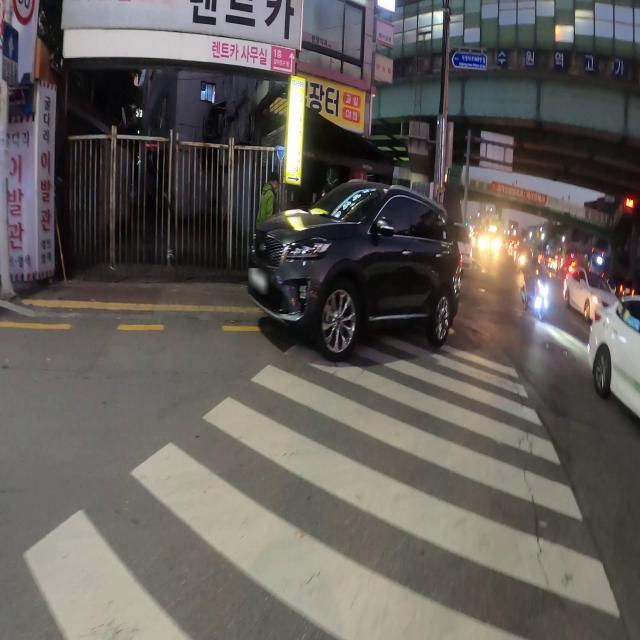crosswalk: (2, 323, 627, 640)
